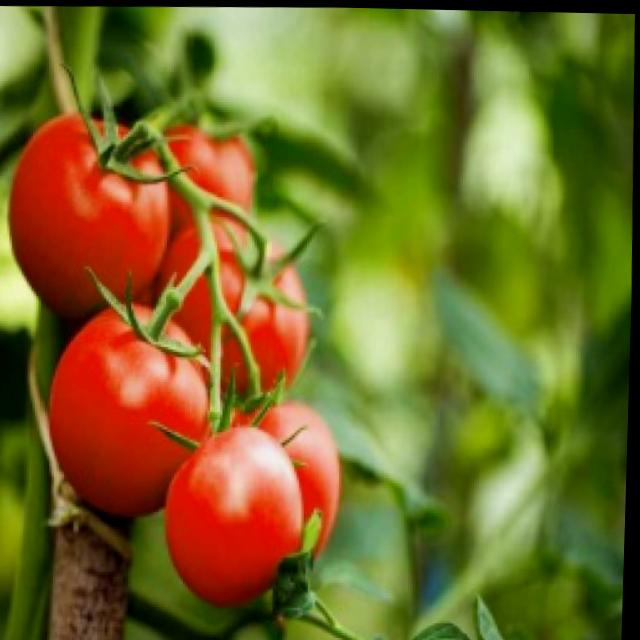tomato: (9, 110, 172, 323), (51, 308, 213, 513), (165, 421, 313, 610), (162, 124, 263, 213)
